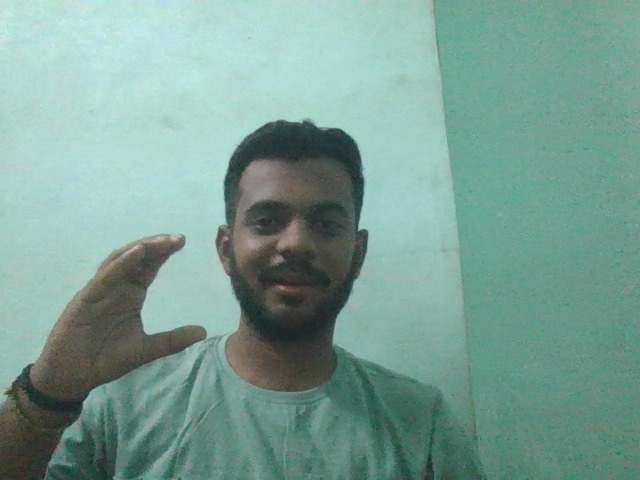no: (37, 227, 210, 389)
